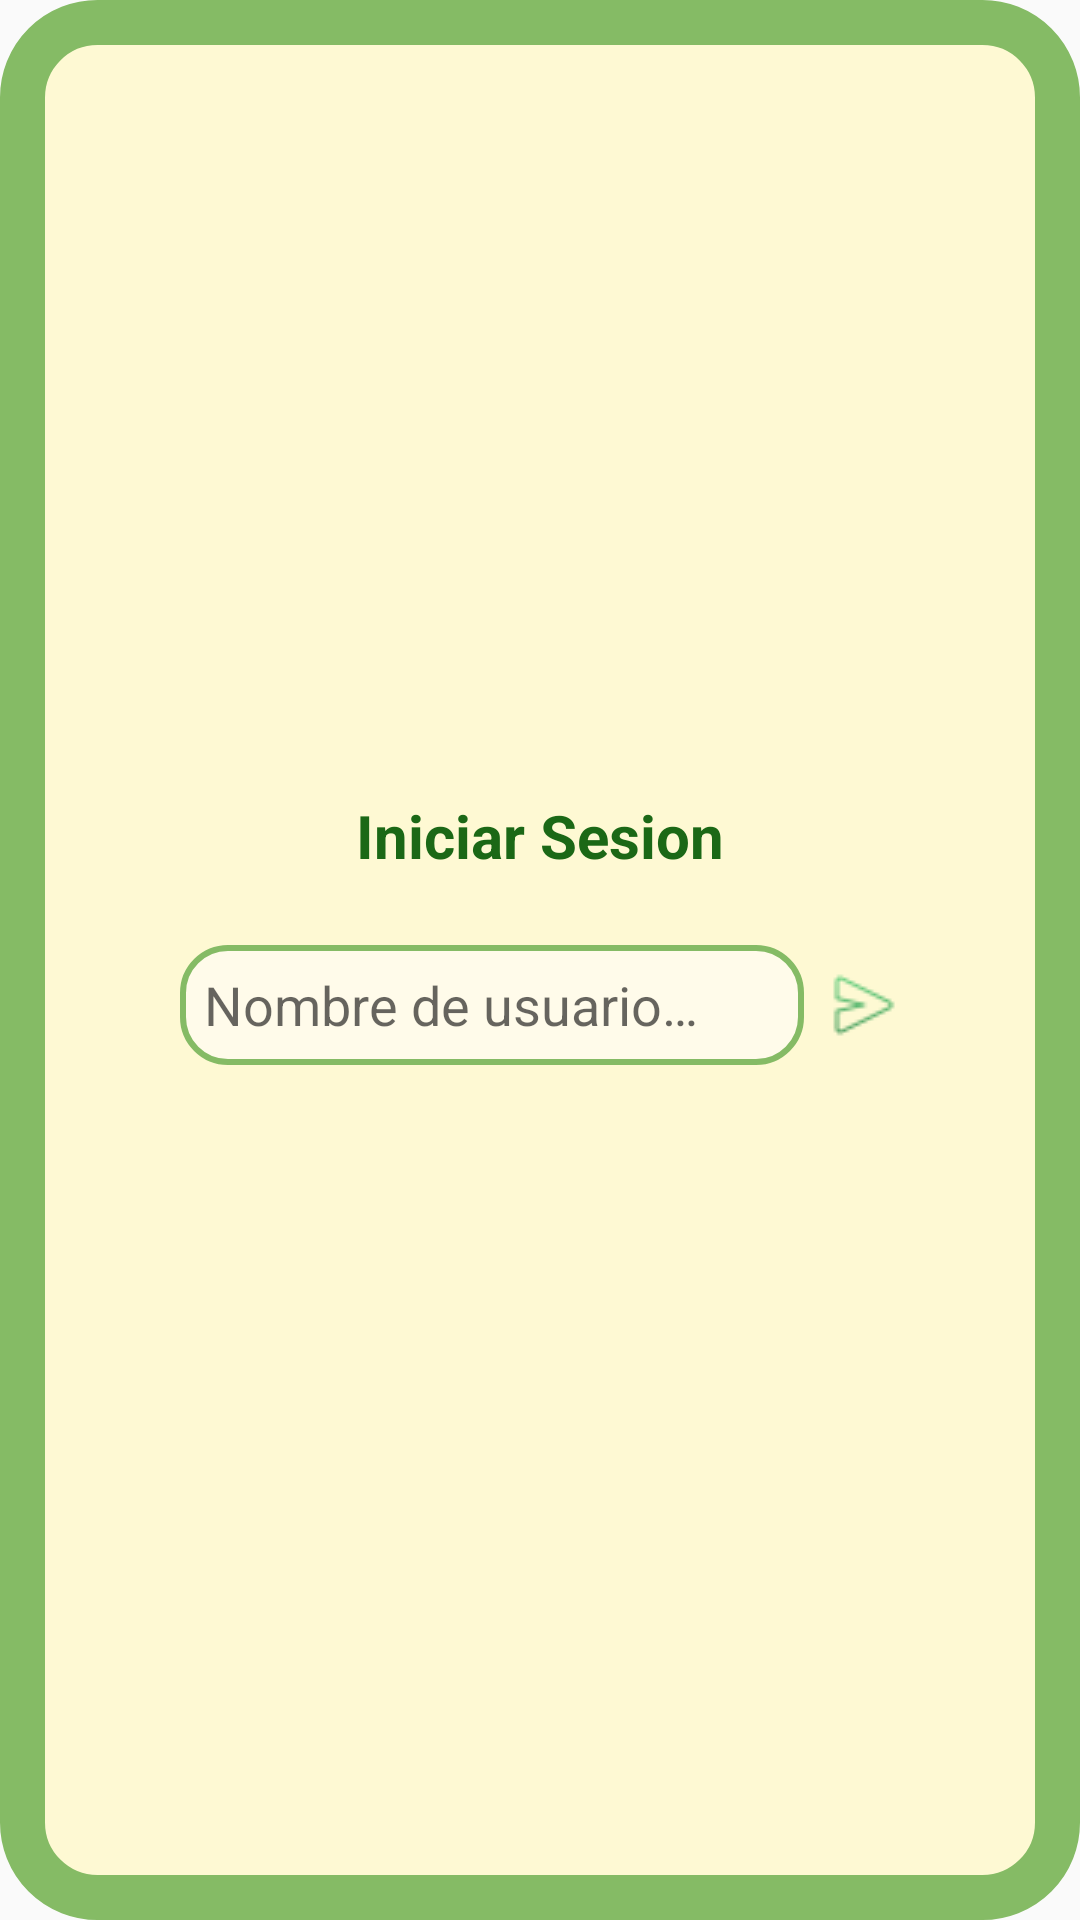

Icons on this 1080×1920 Android screen, each with its box as (x1=x1, y1=y1, x2=x2, y2=y2):
send form: (x1=833, y1=975, x2=895, y2=1035)
